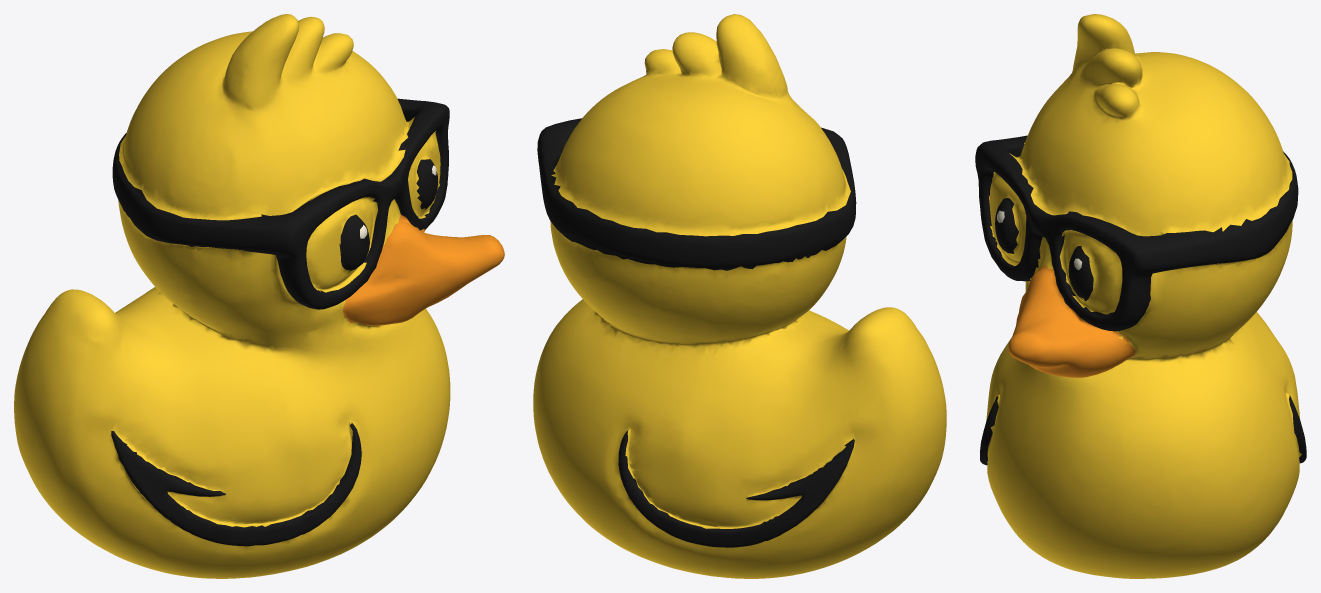
File: duck-guide.glb
The picture shows the model from 3 angles, left to right: view 1: azimuth 30°, elevation 25°; view 2: azimuth 150°, elevation 25°; view 3: azimuth 270°, elevation 25°; orthographic projection. The views are drawn at different scales.
Parts seen in each view (by area): view 1: model; view 2: model; view 3: model.
Part boxes in pixels (x1,y1,x2,y2): model: (14,14,504,578); model: (533,14,946,578); model: (975,14,1306,578).
Bounding box in the file's own units: 0.8145 × 1 × 0.5592.
